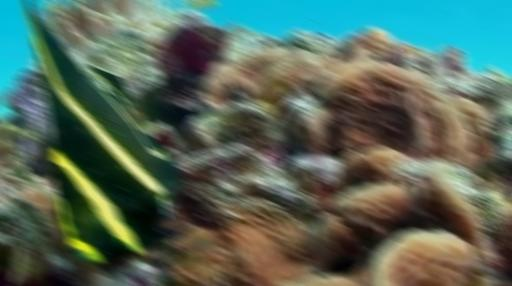Fish: (26, 0, 189, 262)
